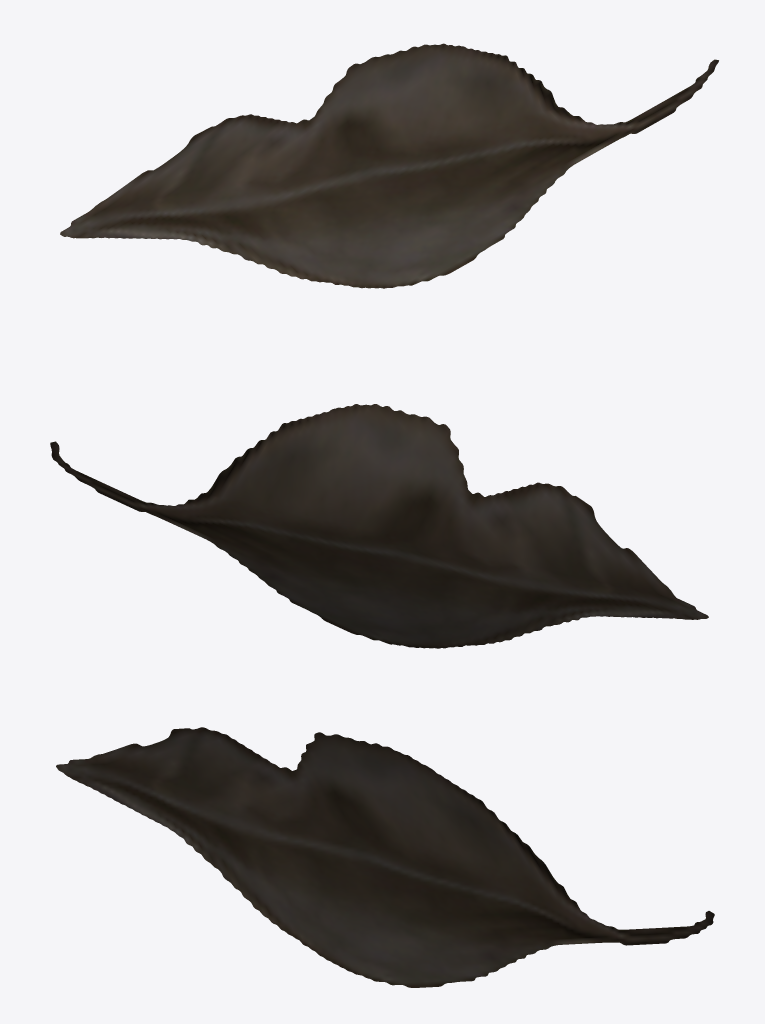
Rendered from TI_Old_Foliage_02.fbx.
3 renders of one model, top to bottom at view 1: azimuth 30°, elevation 25°; view 2: azimuth 150°, elevation 25°; view 3: azimuth 330°, elevation 25°, orthographic.
Visible parts, largest first — view 1: TI_Old_Foliage_02; view 2: TI_Old_Foliage_02; view 3: TI_Old_Foliage_02.
Part boxes in pixels (box(x1,y1,x2,y2)): TI_Old_Foliage_02: box(60, 43, 718, 288); TI_Old_Foliage_02: box(50, 404, 708, 648); TI_Old_Foliage_02: box(56, 727, 714, 987).
Bounding box in the file's own units: 0.3391 × 0.1355 × 0.019.
